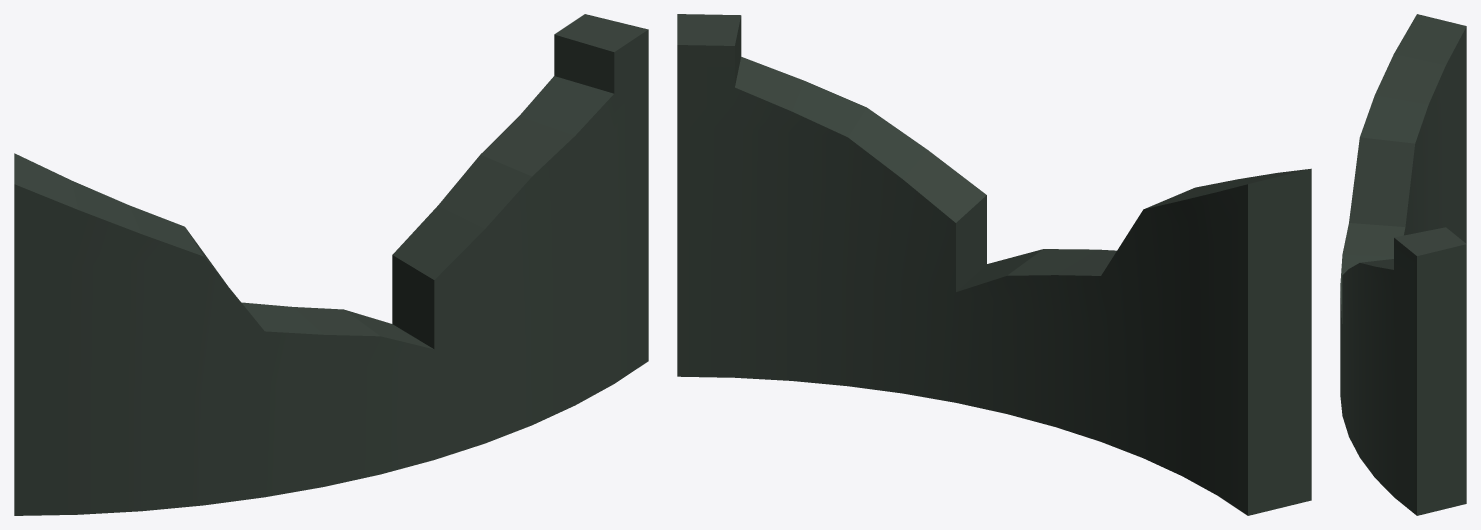
Rendered from SM_WallRingLarge_DamageMid.fbx.
3 views of the same model, side by side, from view 1: azimuth 30°, elevation 25°; view 2: azimuth 150°, elevation 25°; view 3: azimuth 270°, elevation 25° (orthographic). The views are drawn at different scales.
Parts seen in each view (by area): view 1: SM_WallRingLarge_DamageMid; view 2: SM_WallRingLarge_DamageMid; view 3: SM_WallRingLarge_DamageMid.
Boxes of the visible parts, x1=… form: SM_WallRingLarge_DamageMid: x1=14, y1=14, x2=648, y2=515; SM_WallRingLarge_DamageMid: x1=677, y1=14, x2=1311, y2=515; SM_WallRingLarge_DamageMid: x1=1340, y1=14, x2=1466, y2=515.
Size of the model in its own units: 1000 by 500 by 221.
Materials: 1 (1 with a texture image).
